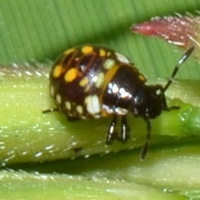insect: (43, 45, 193, 159)
